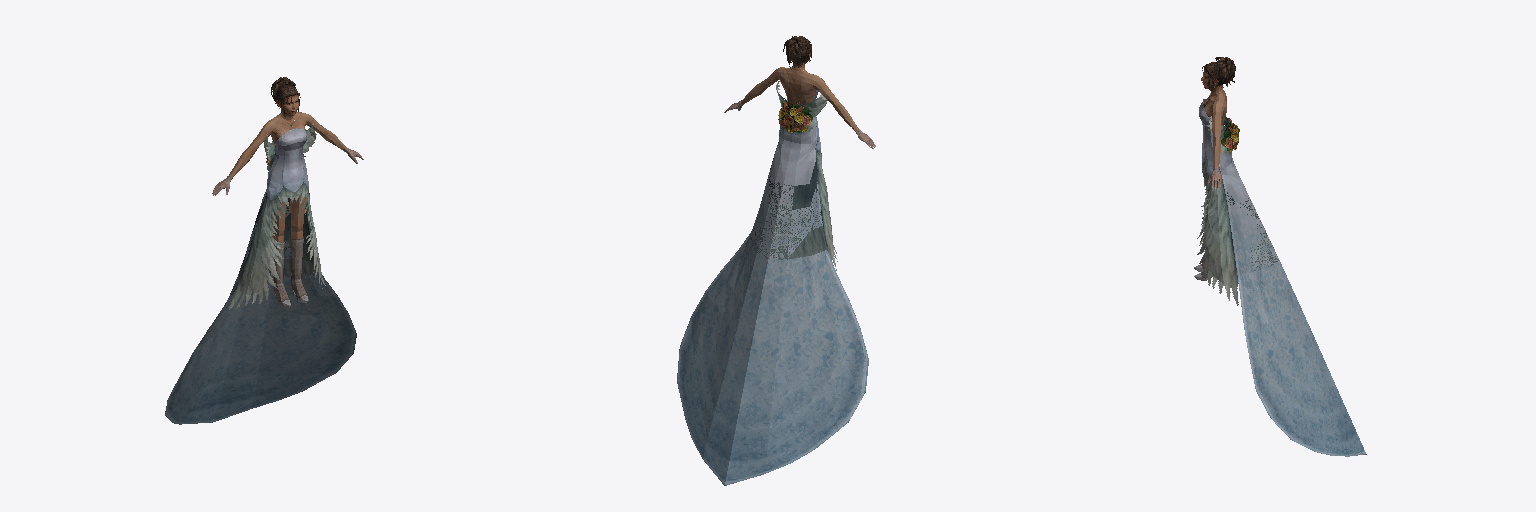
The picture shows the model from 3 angles: view 1: azimuth 30°, elevation 25°; view 2: azimuth 150°, elevation 25°; view 3: azimuth 270°, elevation 25°; orthographic projection.
Parts seen in each view (by area): view 1: obj5, obj8, obj0; view 2: obj5, obj8, obj0, obj1; view 3: obj5, obj8, obj0.
Boxes of the visible parts, x1=… form: obj5: x1=165, y1=128, x2=363, y2=424; obj8: x1=229, y1=108, x2=325, y2=309; obj0: x1=229, y1=94, x2=346, y2=242; obj5: x1=677, y1=90, x2=872, y2=485; obj8: x1=751, y1=60, x2=837, y2=270; obj0: x1=741, y1=51, x2=858, y2=131; obj1: x1=783, y1=36, x2=811, y2=67; obj5: x1=1194, y1=99, x2=1366, y2=456; obj8: x1=1197, y1=86, x2=1278, y2=305; obj0: x1=1201, y1=68, x2=1226, y2=192.
Size of the model in its own units: 15.15 by 30.89 by 12.22.
11 materials, 11 textured.